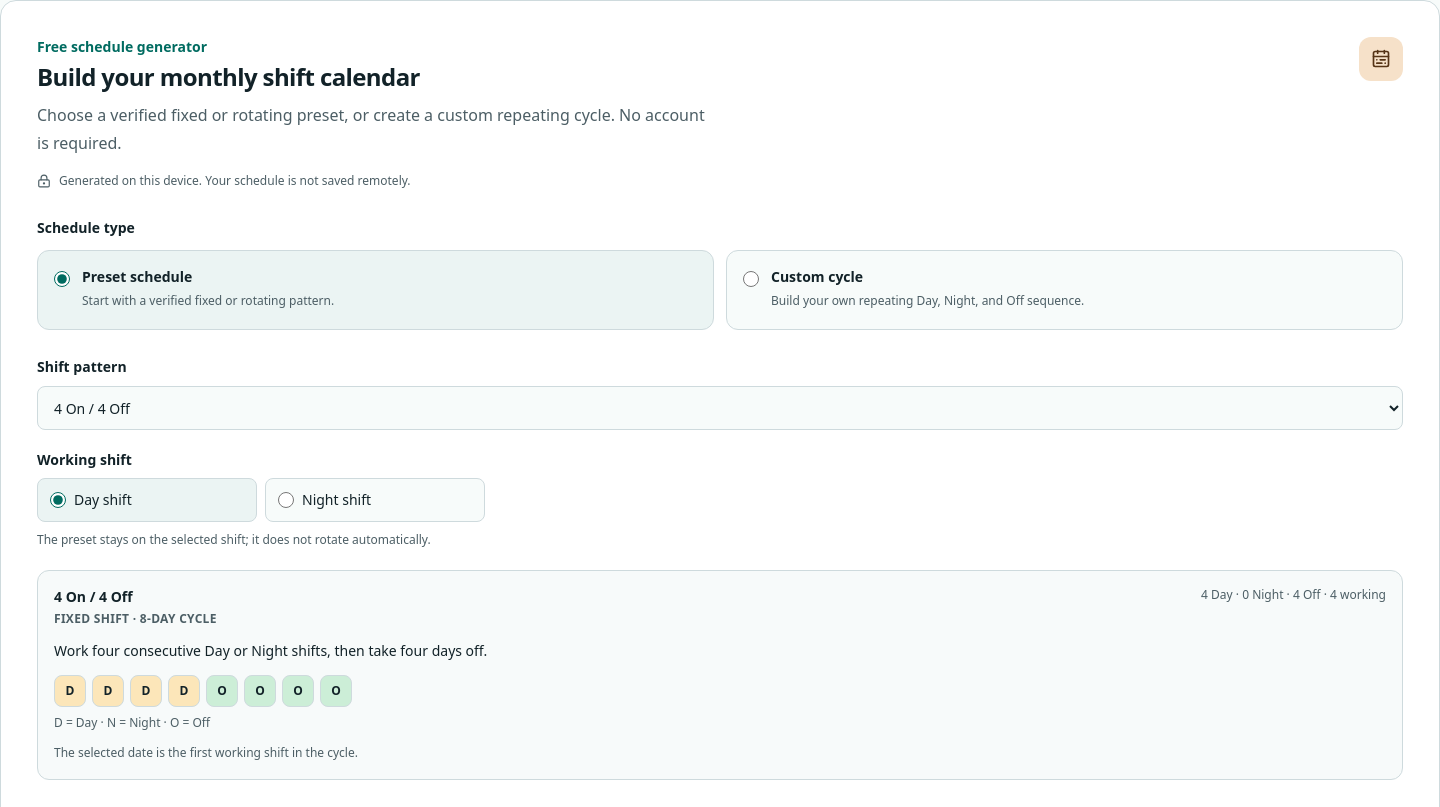
Test: generator form › reports an all-off custom cycle without clearing the form
Step 1. Click the radio button labelled "Custom cycle" → {"x": 751, "y": 279}, box [743,271,759,287]
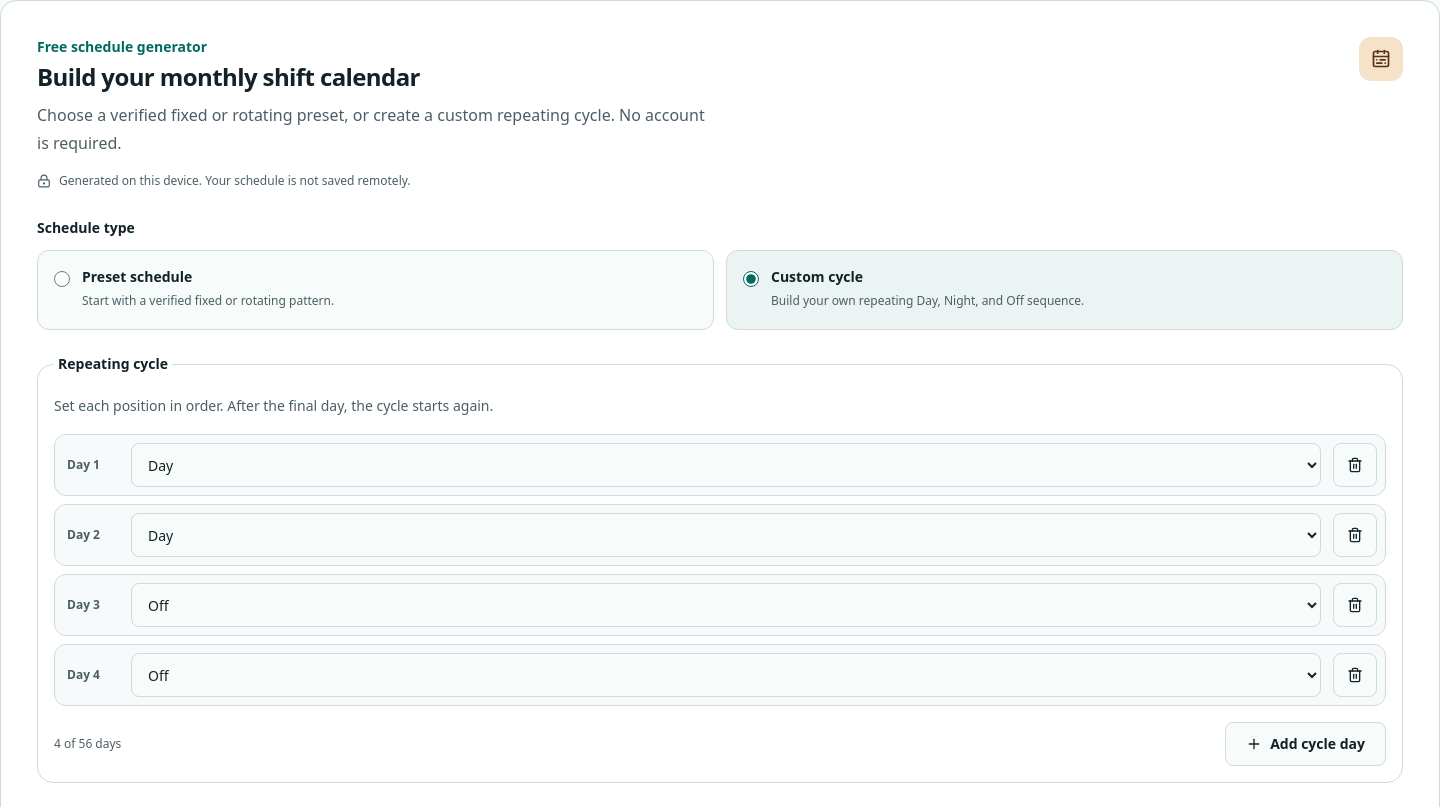
Step 2. Select "Off" in the 1st dropdown → {"x": 726, "y": 465}, box [131,443,1321,487]
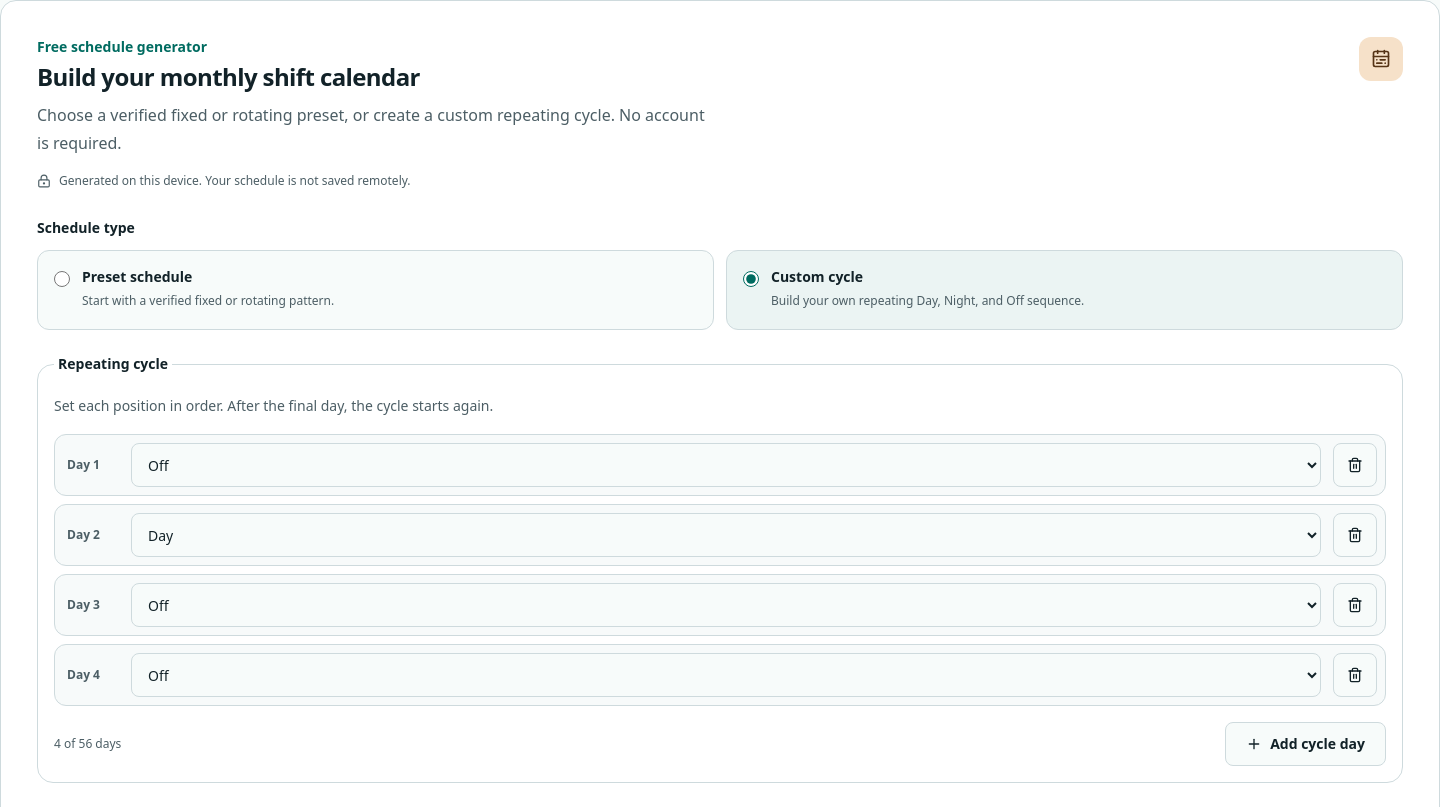
Step 3. Select "Off" in the 2nd dropdown → {"x": 726, "y": 535}, box [131,513,1321,557]
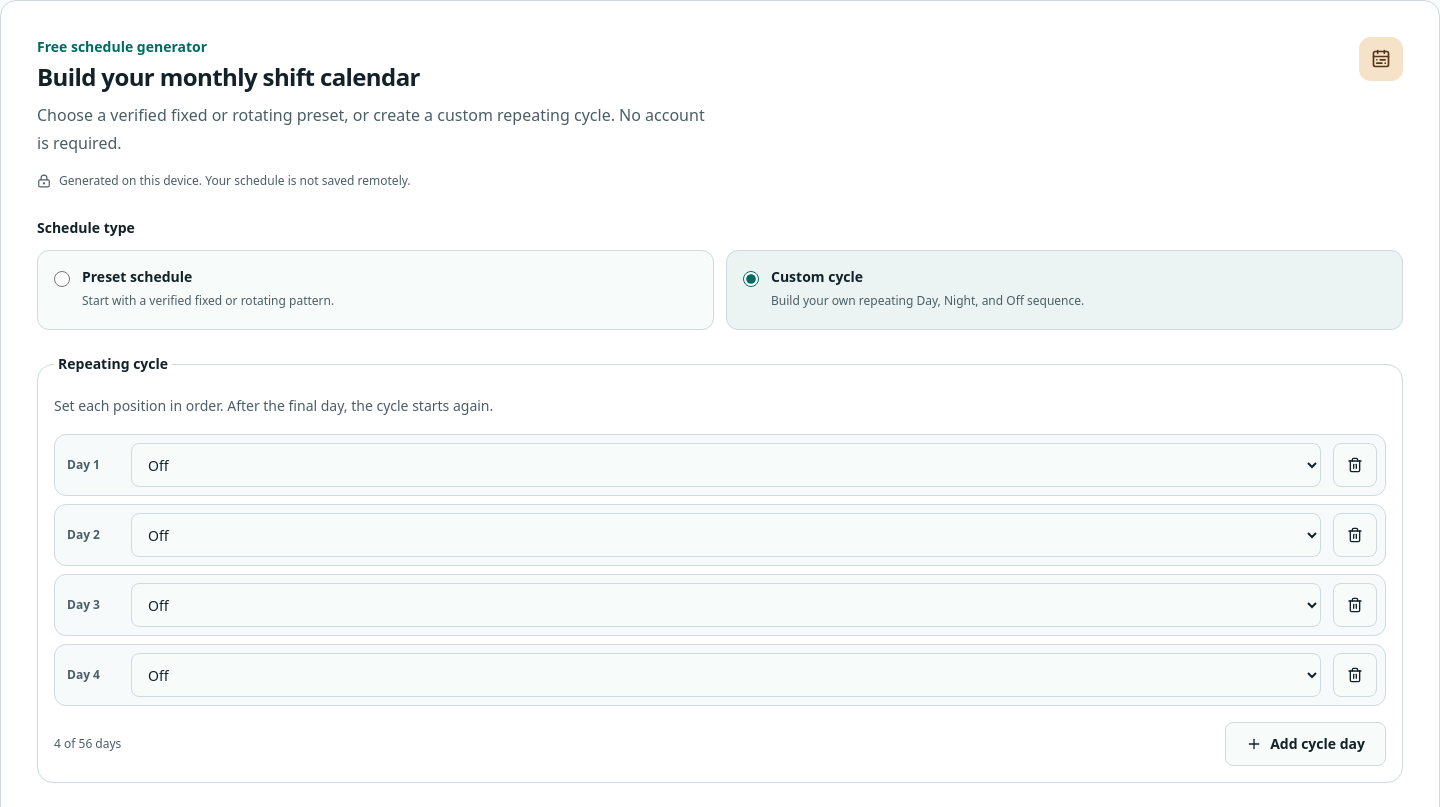
Step 4. Select "Off" in the 3rd dropdown → {"x": 726, "y": 605}, box [131,583,1321,627]
Step 5. Select "Off" in the 4th dropdown → {"x": 726, "y": 675}, box [131,653,1321,697]
(page scrolled)
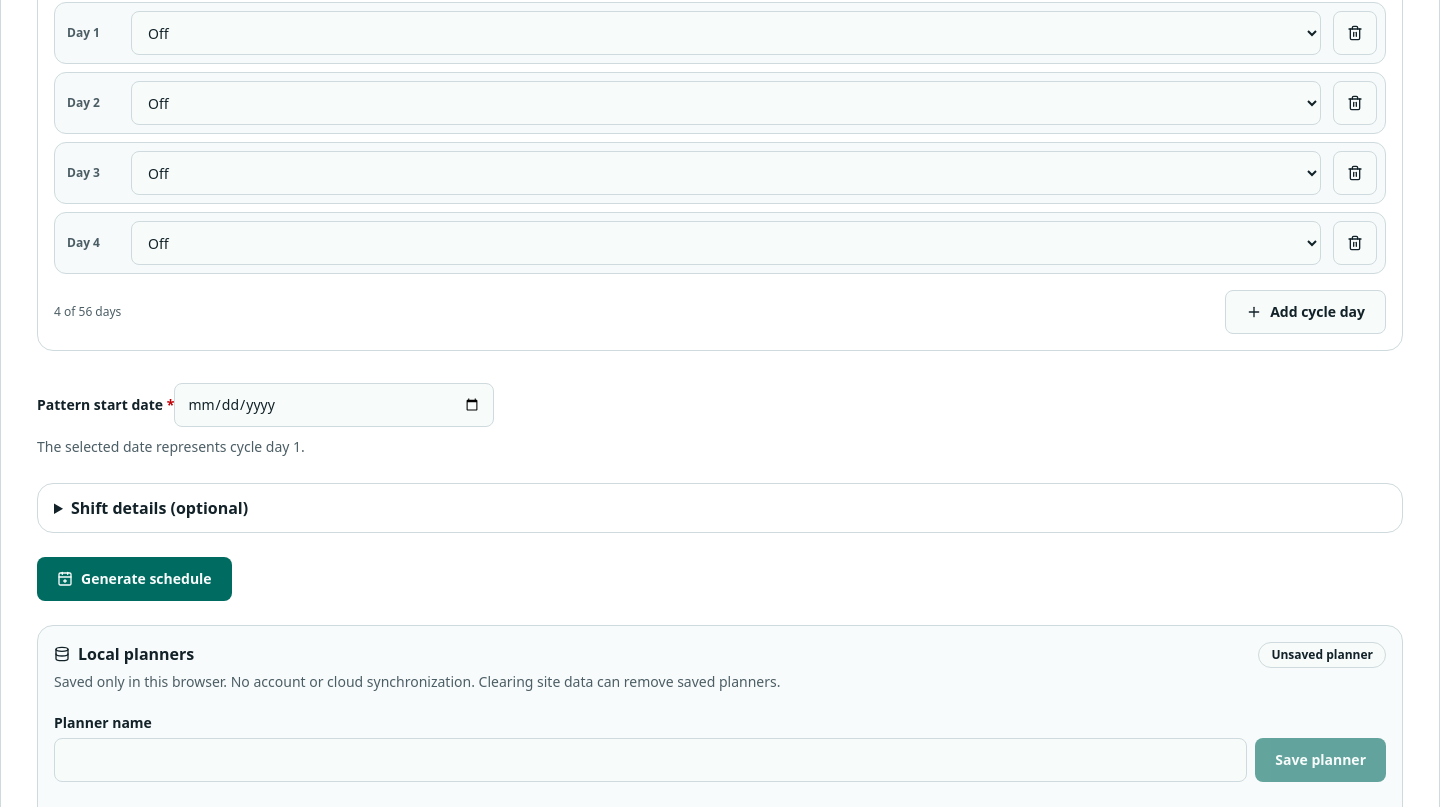
Step 6. Type "2026-10-01" into the date field labelled "Pattern start date *" → {"x": 334, "y": 405}, box [174,383,494,427]
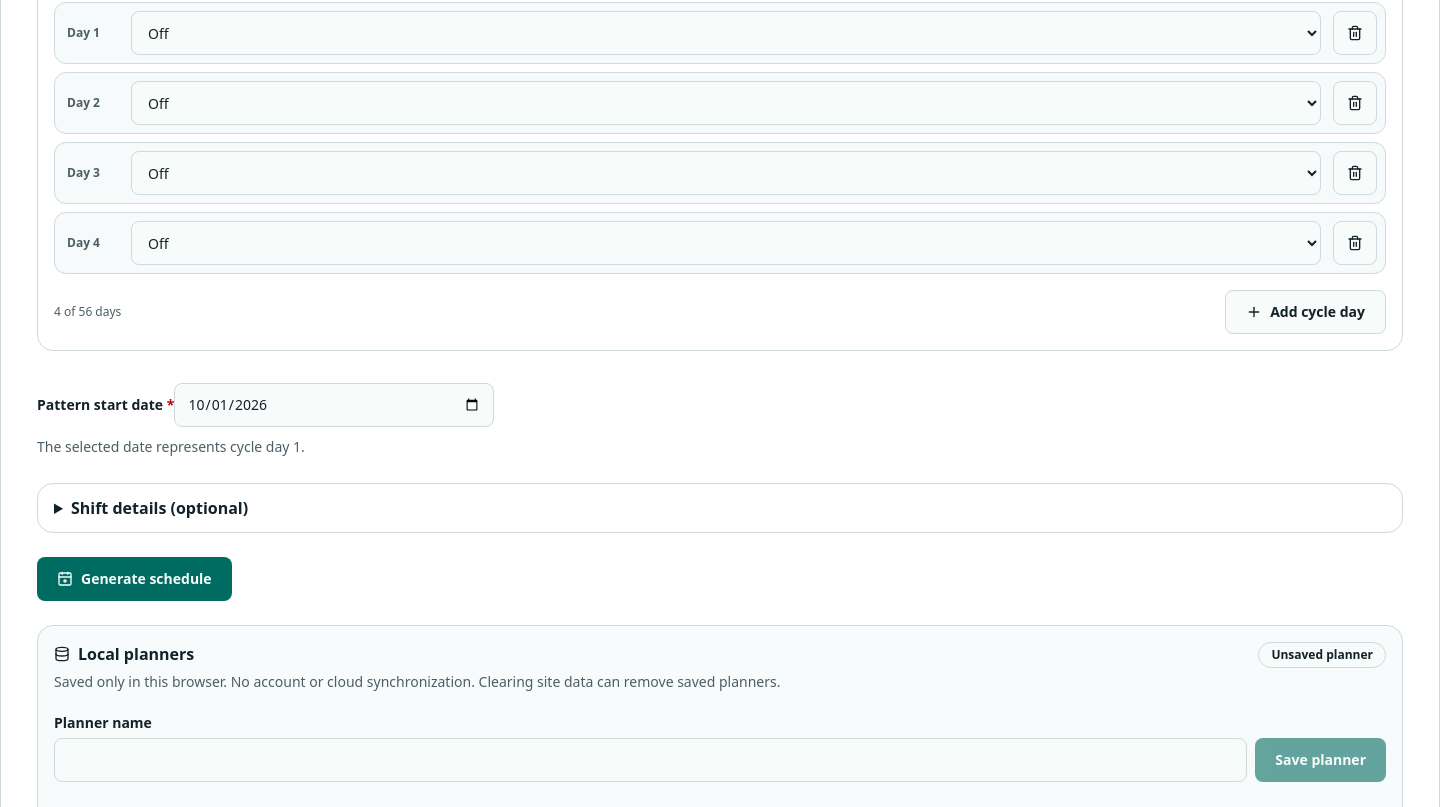
Step 7. Click the button "Generate schedule" → {"x": 134, "y": 579}, box [37,557,232,601]
(page scrolled)
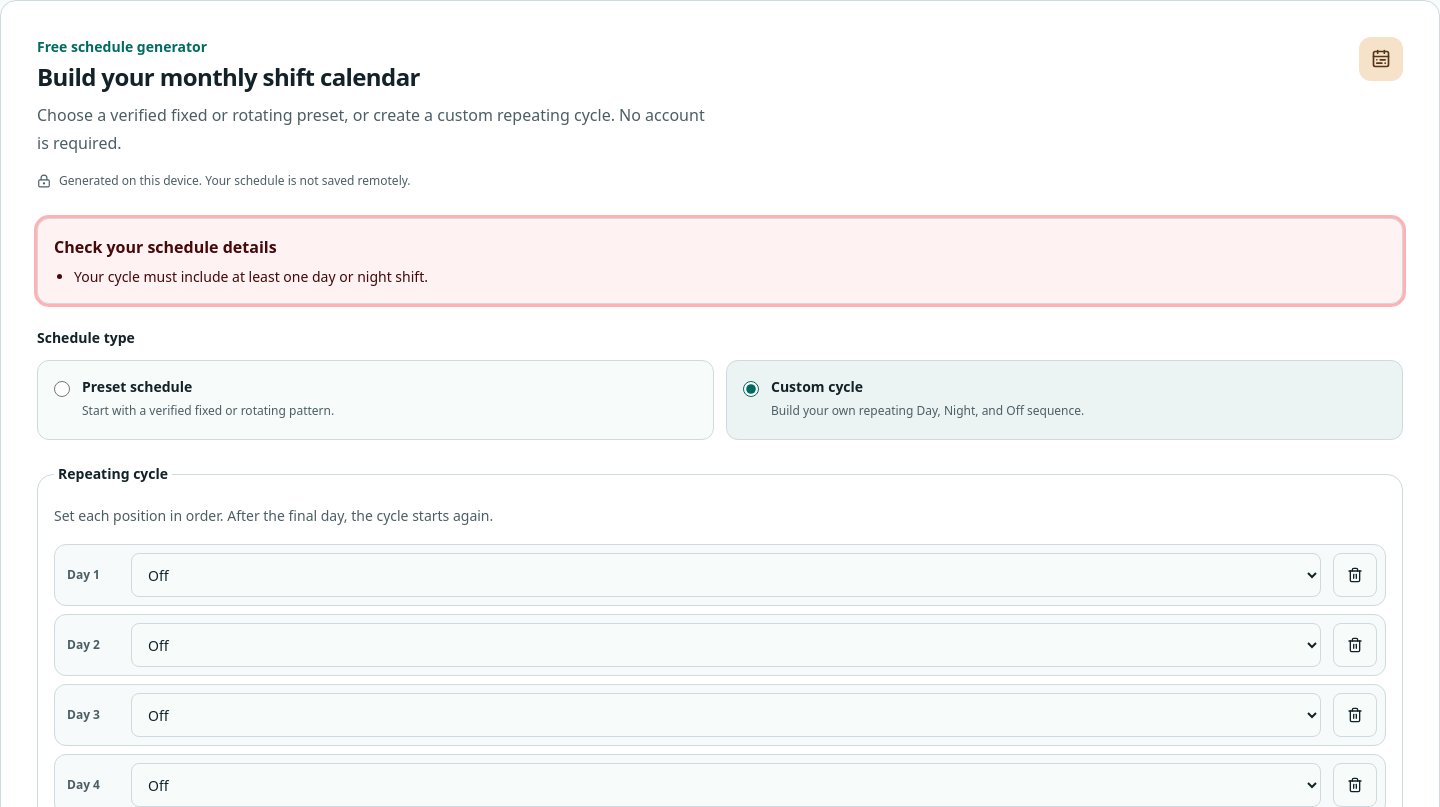
Now the list item "Your cycle must include at least one day or night shift." is shown, box [74,267,428,286]
